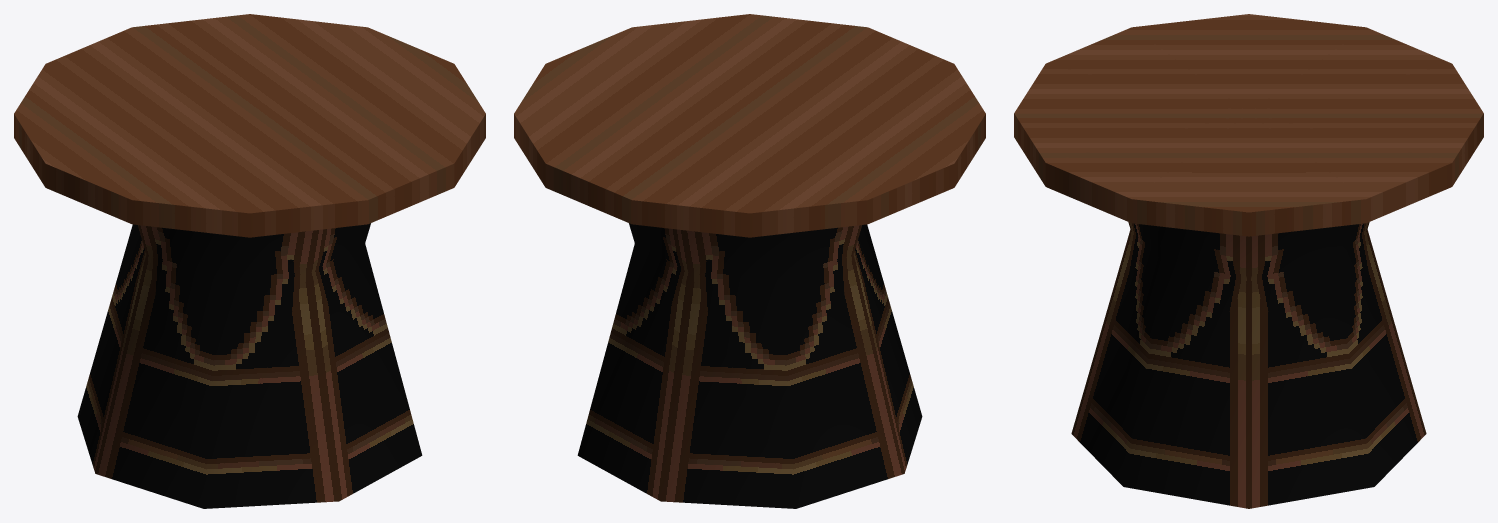
The picture shows the model from 3 angles, left to right: view 1: azimuth 30°, elevation 25°; view 2: azimuth 150°, elevation 25°; view 3: azimuth 270°, elevation 25°; orthographic projection.
Visible parts, largest first — view 1: 3914kg3_gs16; view 2: 3914kg3_gs16; view 3: 3914kg3_gs16.
Boxes of the visible parts, bbox=[...] form: 3914kg3_gs16: bbox=[14, 14, 485, 508]; 3914kg3_gs16: bbox=[514, 14, 985, 508]; 3914kg3_gs16: bbox=[1014, 14, 1483, 508].
Bounding box in the file's own units: 0.9956 × 0.75 × 0.9956.
2 materials, 2 textured.
